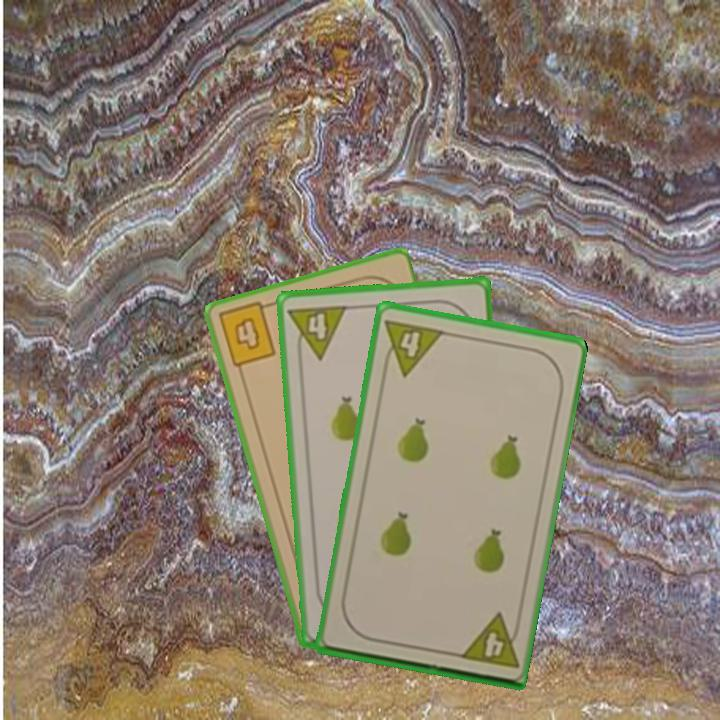4b: (214, 298, 278, 371)
4p: (378, 315, 447, 379), (455, 610, 524, 671), (285, 301, 350, 364)
